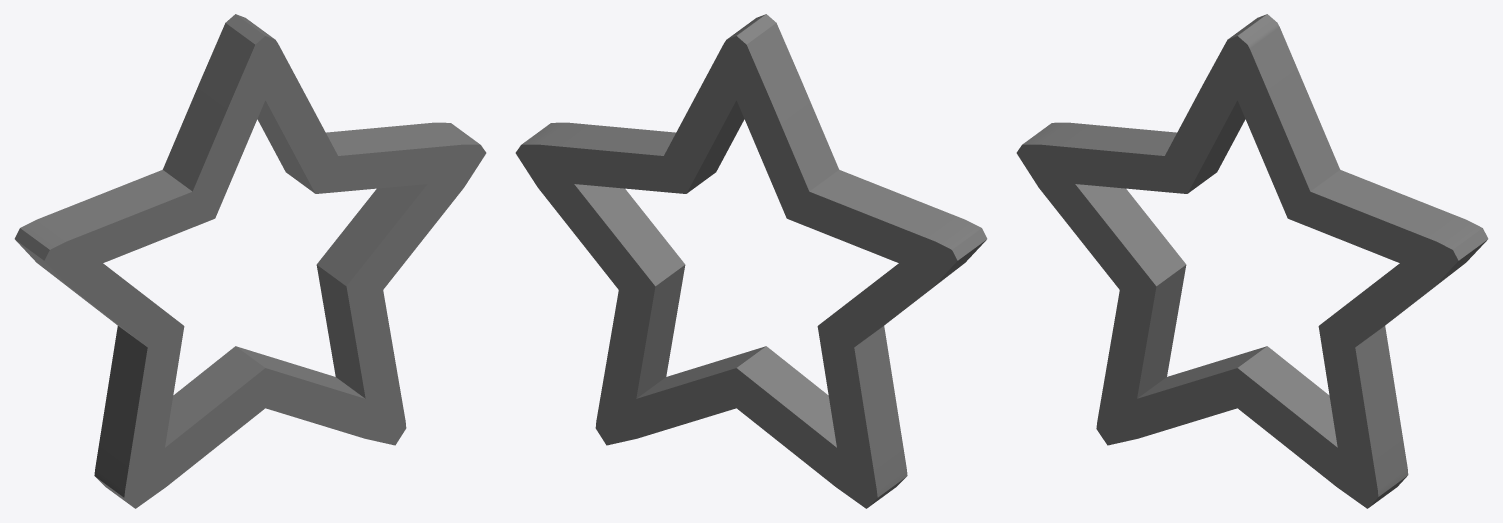
Rendered from fa-star-o.obj.
3 renders of one model, left to right at view 1: azimuth 30°, elevation 25°; view 2: azimuth 150°, elevation 25°; view 3: azimuth 330°, elevation 25°, orthographic.
Size of the model in its own units: 0.9826 by 0.9371 by 0.1152.
Materials: 1 (1 with a texture image).
